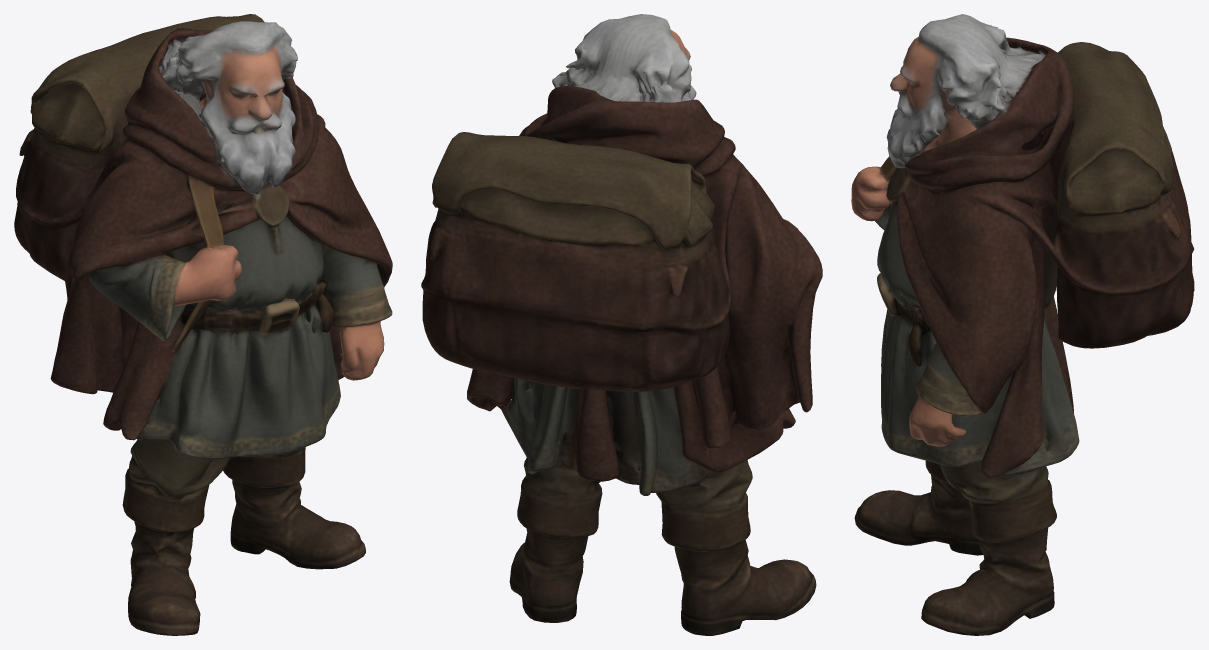
File: generation_0.glb
3 views of the same model, side by side, from view 1: azimuth 30°, elevation 25°; view 2: azimuth 150°, elevation 25°; view 3: azimuth 270°, elevation 25° (orthographic). The views are drawn at different scales.
Parts seen in each view (by area): view 1: geometry_0; view 2: geometry_0; view 3: geometry_0.
Part boxes in pixels (x1,y1,x2,y2): geometry_0: (14,14,392,635); geometry_0: (421,14,822,635); geometry_0: (851,14,1194,635).
Size of the model in its own units: 0.6272 by 1 by 0.5586.
1 material, 1 textured.
